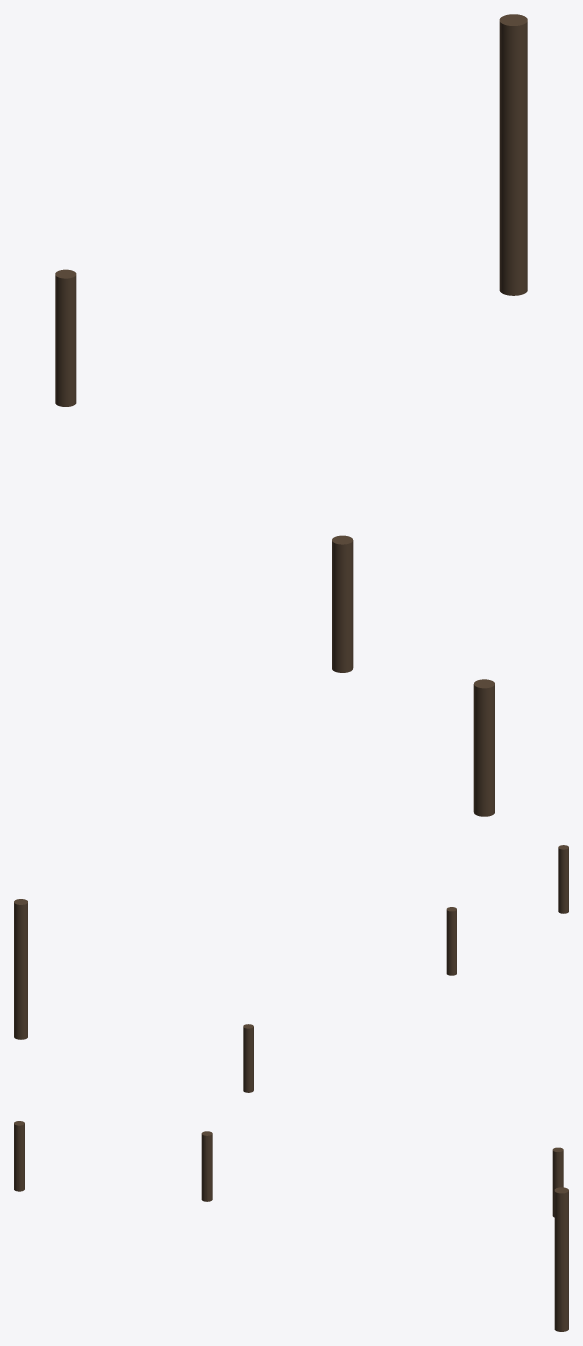
The model's file is umgebung_baumstaemme.glb.
3 renders of one model, top to bottom at view 1: azimuth 30°, elevation 25°; view 2: azimuth 150°, elevation 25°; view 3: azimuth 270°, elevation 25°, orthographic. The views are drawn at different scales.
Visible parts, largest first — view 1: umgebung_baumstaemme__TIB Farbe 92-74-58; view 2: umgebung_baumstaemme__TIB Farbe 92-74-58; view 3: umgebung_baumstaemme__TIB Farbe 92-74-58.
Part boxes in pixels (left/top/right/bottom): umgebung_baumstaemme__TIB Farbe 92-74-58: left=55, top=14, right=527, bottom=816; umgebung_baumstaemme__TIB Farbe 92-74-58: left=14, top=845, right=568, bottom=1092; umgebung_baumstaemme__TIB Farbe 92-74-58: left=14, top=1121, right=568, bottom=1331.
Size of the model in its own units: 9.43 by 4.2 by 15.25.
